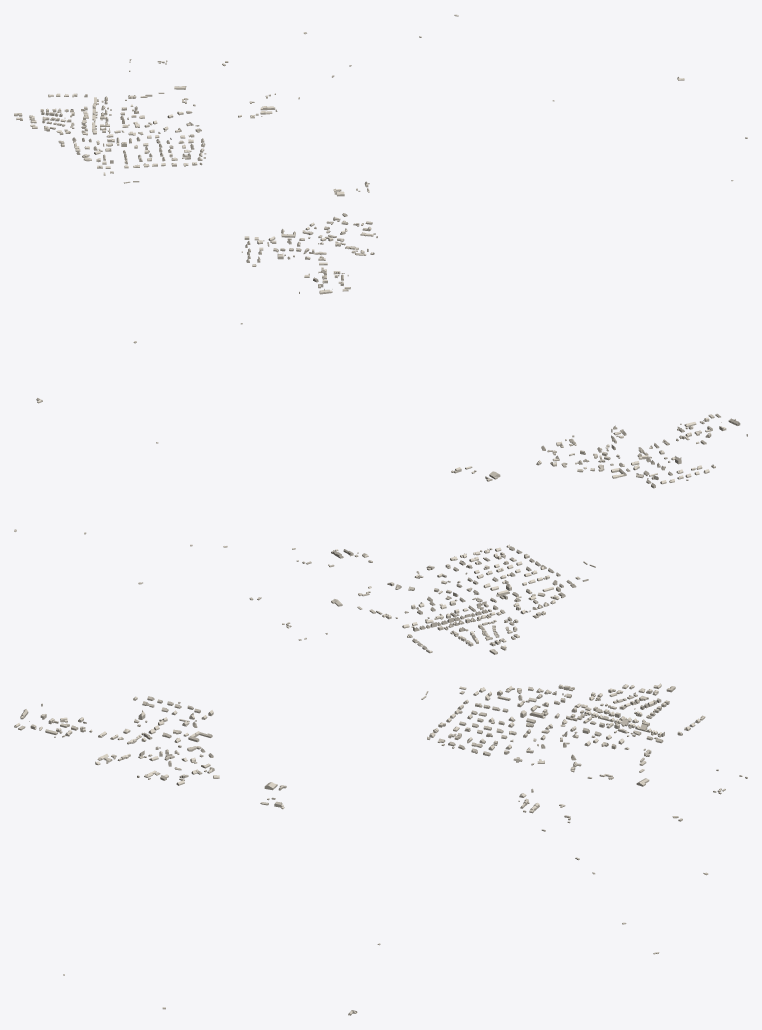
3 views of the same model, one above another, from view 1: azimuth 30°, elevation 25°; view 2: azimuth 150°, elevation 25°; view 3: azimuth 270°, elevation 25° (orthographic). The views are drawn at different scales.
Bounding box in the file's own units: 1792 × 27.51 × 1690.
